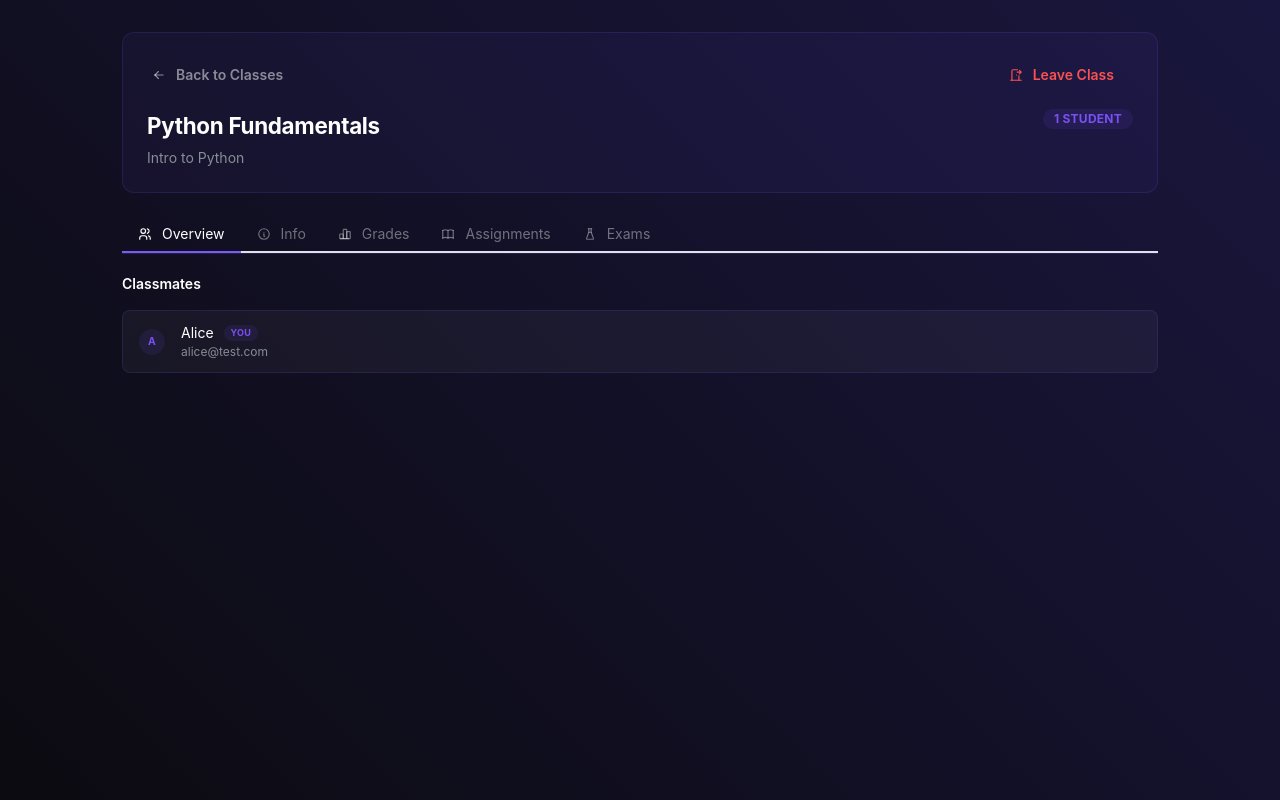
Scenario: StudentClassPage Component tests › should render class info in info tab
Click the tab "Info".
click(281, 235)  # box [241, 217, 322, 253]
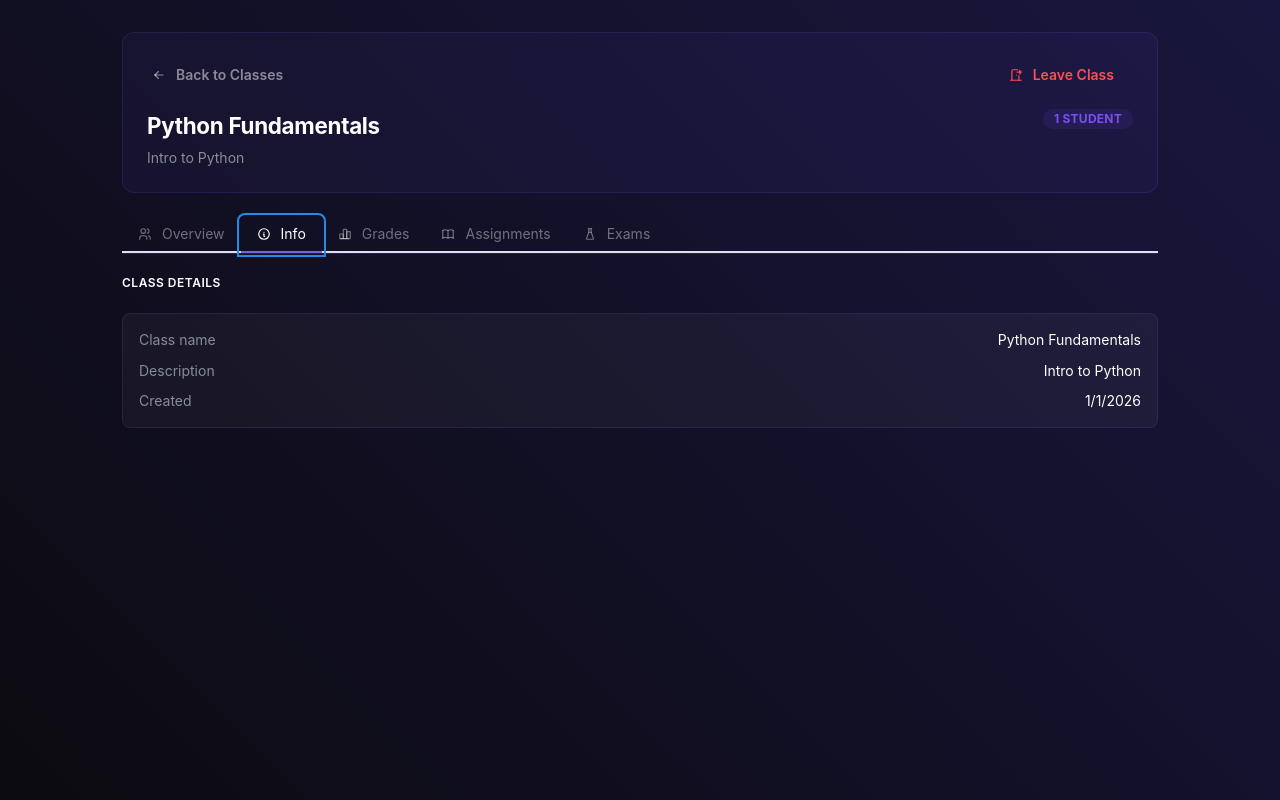
expect the text "Class Details" is shown: met, box [122, 275, 221, 290]
expect the text with test id "info-name" reads "Python Fundamentals": met, box [998, 331, 1141, 348]
